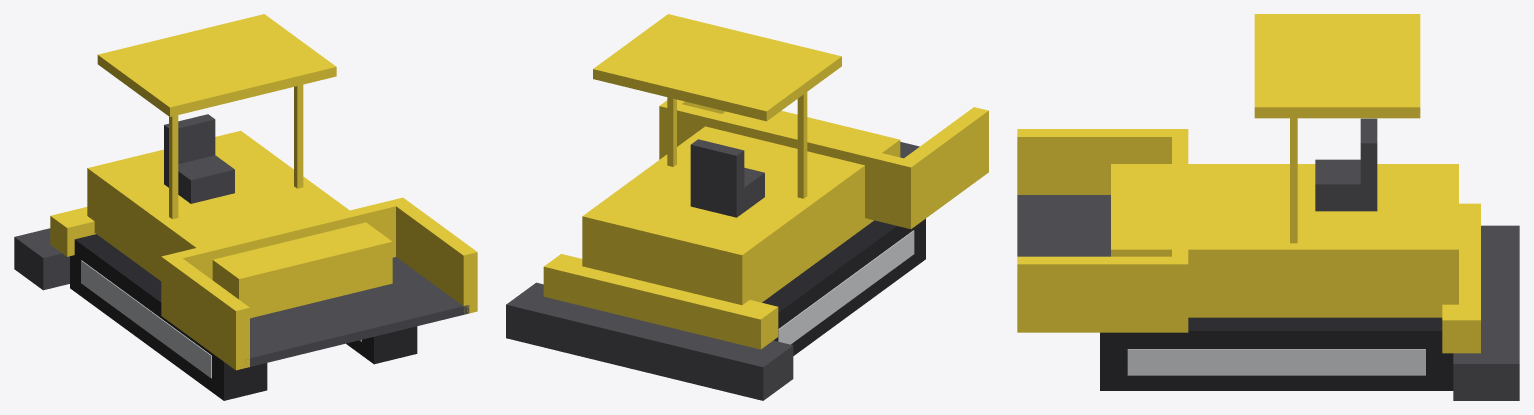
File: construction_paver.fbx
3 renders of one model, left to right at view 1: azimuth 30°, elevation 25°; view 2: azimuth 150°, elevation 25°; view 3: azimuth 270°, elevation 25°, orthographic. The views are drawn at different scales.
Visible parts, largest first — view 1: construction_paver; view 2: construction_paver; view 3: construction_paver.
Boxes of the visible parts, x1,y1,x2,y2 form: construction_paver: (14,14,477,400); construction_paver: (506,14,988,400); construction_paver: (1017,14,1519,400).
Size of the model in its own units: 2.96 by 2.76 by 4.55.
